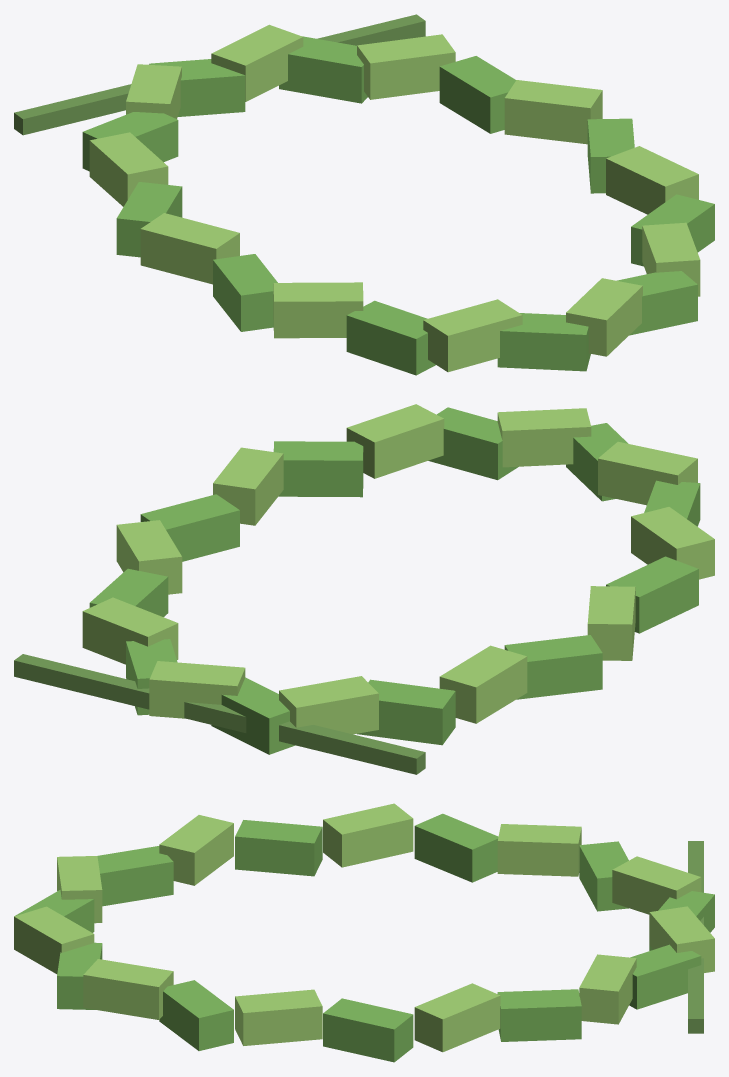
Rendered from coroa_louros.glb.
The picture shows the model from 3 angles, top to bottom: view 1: azimuth 30°, elevation 25°; view 2: azimuth 150°, elevation 25°; view 3: azimuth 270°, elevation 25°; orthographic projection. The views are drawn at different scales.
Parts seen in each view (by area): view 1: coroa_louros; view 2: coroa_louros; view 3: coroa_louros.
Boxes of the visible parts, box(x1,y1,x2,y2) form: coroa_louros: box(14, 14, 714, 375); coroa_louros: box(14, 404, 714, 774); coroa_louros: box(14, 803, 714, 1062).
Bounding box in the file's own units: 0.6351 × 0.057 × 0.8662.
